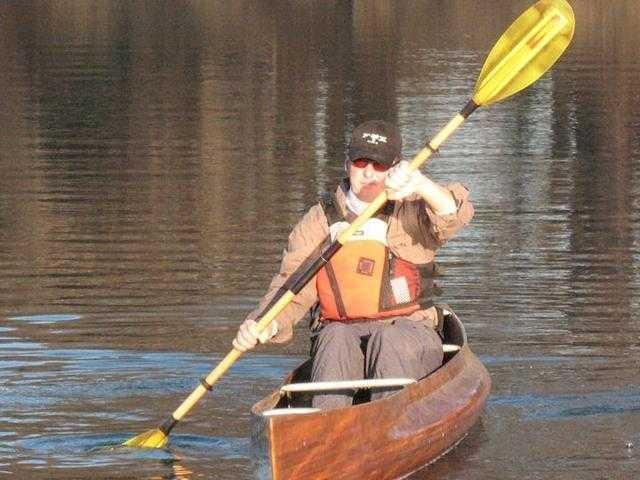kayak: (2, 327, 493, 480), (258, 340, 491, 480)
